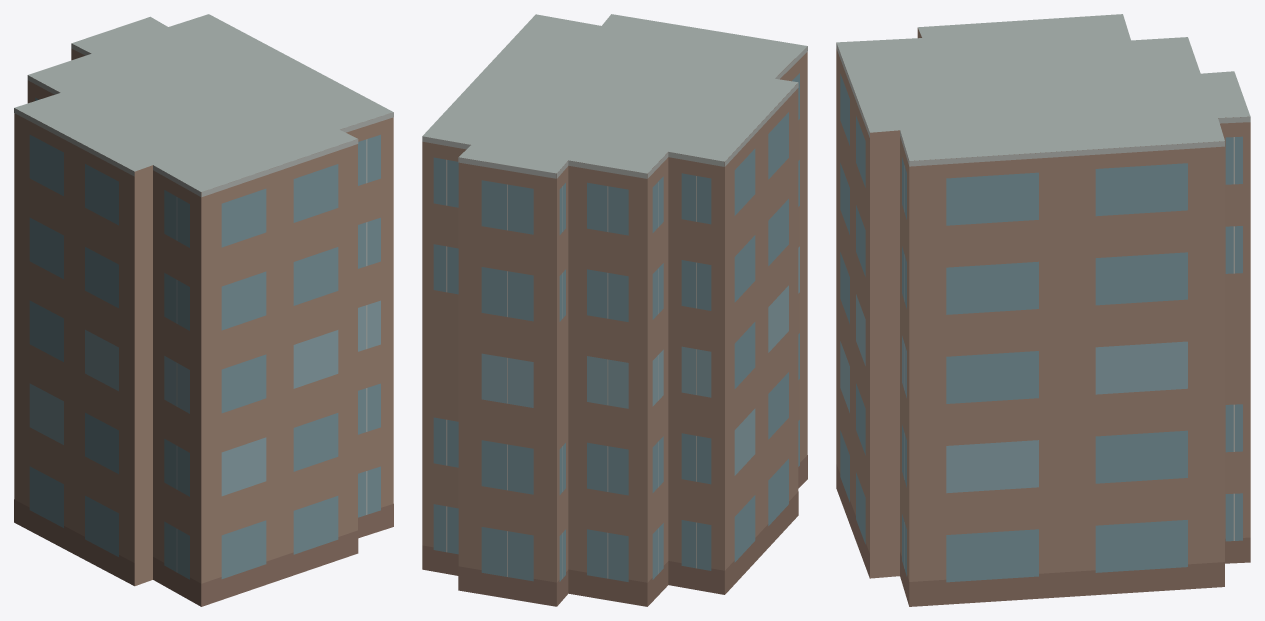
File: survey-upis-32603031.glb
3 views of the same model, side by side, from view 1: azimuth 30°, elevation 25°; view 2: azimuth 150°, elevation 25°; view 3: azimuth 270°, elevation 25° (orthographic). The views are drawn at different scales.
Visible parts, largest first — view 1: survey-upis-32603031.tmp; view 2: survey-upis-32603031.tmp; view 3: survey-upis-32603031.tmp.
Boxes of the visible parts, x1,y1,x2,y2 form: survey-upis-32603031.tmp: (14, 14, 393, 606); survey-upis-32603031.tmp: (422, 14, 807, 606); survey-upis-32603031.tmp: (836, 14, 1250, 606).
Bounding box in the file's own units: 13.98 × 19.75 × 16.64.
